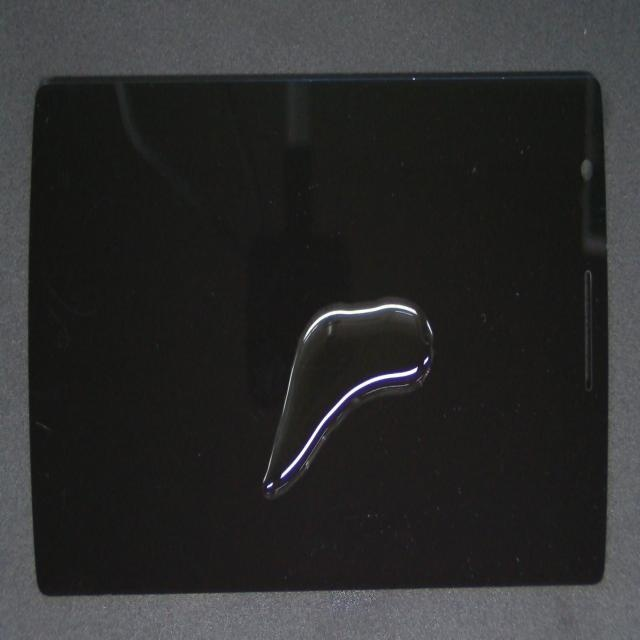oil: (206, 213, 640, 529)
